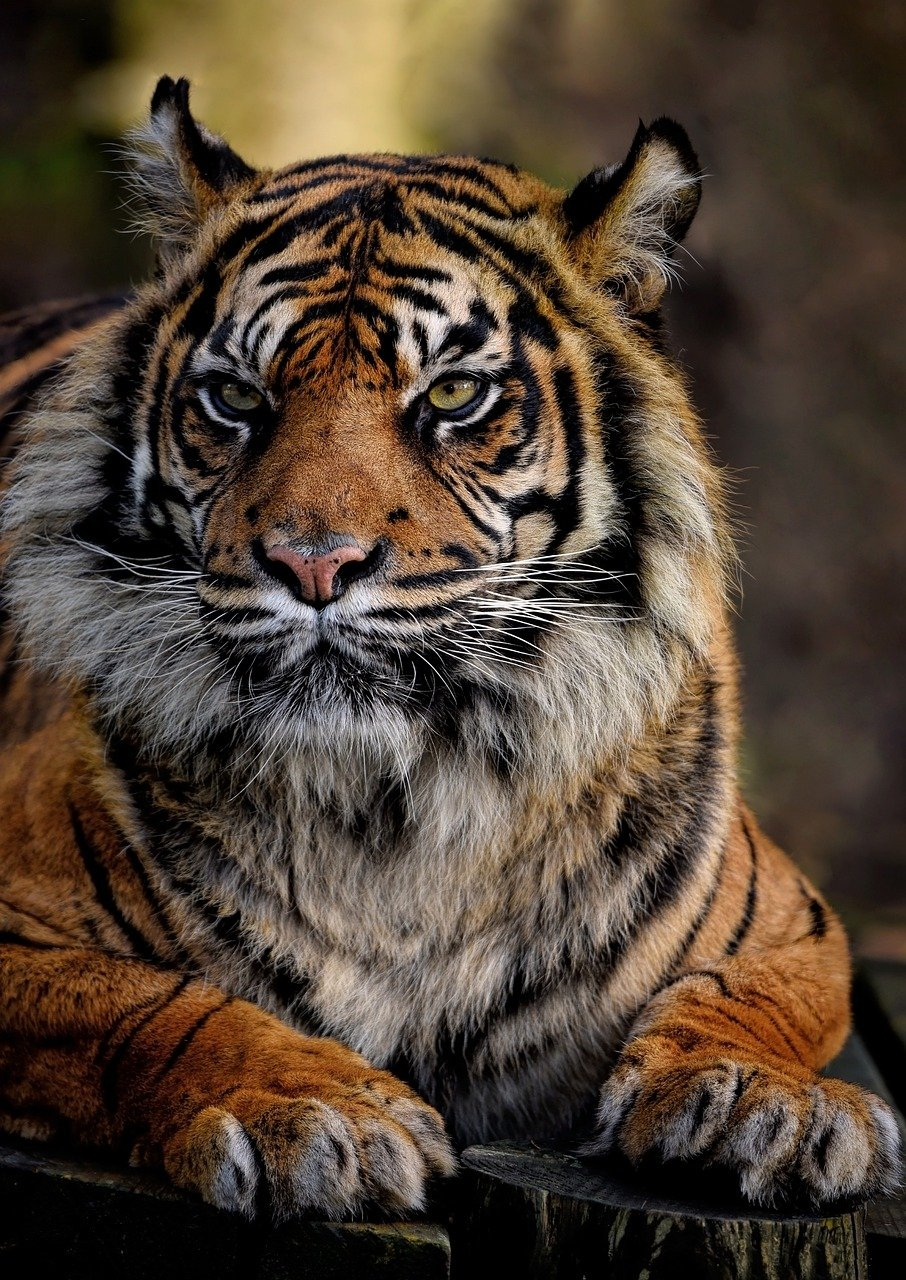tiger: (77, 28, 723, 803)
